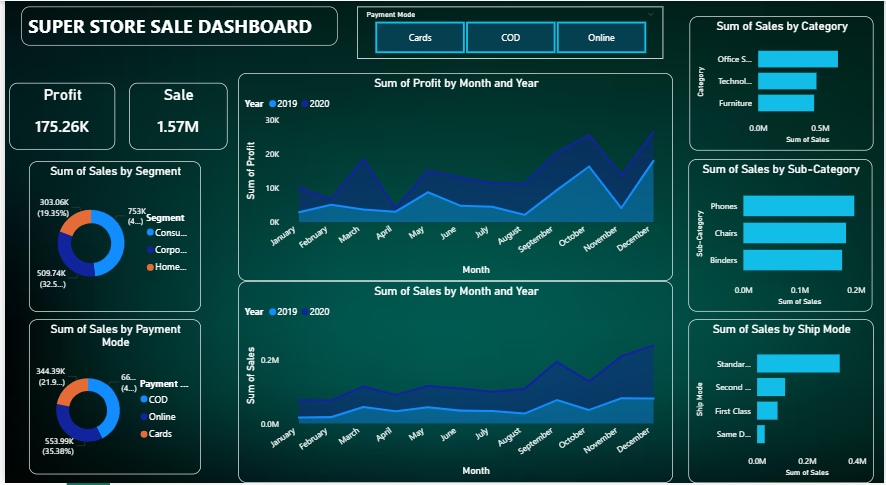

The dashboard page shown, as its layout file describes it:
{"tool":"powerbi","page":{"name":"Page 1","canvas":[1280,720],"ordinal":0},"visuals":[{"type":"clusteredBarChart","fields":{"Category":["Sheet1.Category"],"Y":["Sum(Sheet1.Sales)"]},"box":[996.8,41.3,268.3,195.2],"z":0},{"type":"clusteredBarChart","fields":{"Category":["Sheet1.Sub-Category"],"Y":["Sum(Sheet1.Sales)"]},"box":[995.2,249.2,268.3,222.2],"z":1000},{"type":"clusteredBarChart","fields":{"Category":["Sheet1.Ship Mode"],"Y":["Sum(Sheet1.Sales)"]},"box":[995.2,482.5,269.8,238.1],"z":2000},{"type":"stackedAreaChart","fields":{"Y":["Sum(Sheet1.Sales)"],"Category":["Sheet1.Order Date.Variation.Date Hierarchy.Month"],"Series":["Sheet1.Order Date.Variation.Date Hierarchy.Year"]},"box":[339.7,427,633.3,293.7],"z":3000},{"type":"stackedAreaChart","fields":{"Category":["Sheet1.Order Date.Variation.Date Hierarchy.Month"],"Series":["Sheet1.Order Date.Variation.Date Hierarchy.Year"],"Y":["Sum(Sheet1.Profit)"]},"box":[339.7,123.8,633.3,303.2],"z":4000},{"type":"donutChart","fields":{"Y":["Sum(Sheet1.Sales)"],"Category":["Sheet1.Segment"]},"box":[34.9,252.4,250.8,219],"z":4001},{"type":"donutChart","fields":{"Y":["Sum(Sheet1.Sales)"],"Category":["Sheet1.Payment Mode"]},"box":[34.9,482.5,250.8,225.4],"z":4002},{"type":"slicer","fields":{"Values":["Sheet1.Payment Mode"]},"box":[512.7,27,446,76.2],"z":4003},{"type":"textbox","box":[23.8,27,460.3,57.1],"z":4004},{"type":"cardVisual","title":"Sale","fields":{"Data":["Sum(Sheet1.Sales)"]},"box":[181,138.1,142.9,96.8],"z":4005},{"type":"cardVisual","title":"Profit","fields":{"Data":["Sum(Sheet1.Profit)"]},"box":[6.3,138.1,154,96.8],"z":4006}]}

Visuals, with their boxes in screenshot pixels (x1, y1, x2, y2), scaled from the page's 1280x720 canvas onto the 886x485 screenshot:
clusteredBarChart - Sheet1.Category x Sum(Sheet1.Sales): region(690, 28, 876, 159)
clusteredBarChart - Sheet1.Sub-Category x Sum(Sheet1.Sales): region(689, 168, 875, 318)
clusteredBarChart - Sheet1.Ship Mode x Sum(Sheet1.Sales): region(689, 325, 876, 484)
stackedAreaChart - Sum(Sheet1.Sales) x Sheet1.Order Date.Variation.Date Hierarchy.Month: region(235, 288, 673, 484)
stackedAreaChart - Sheet1.Order Date.Variation.Date Hierarchy.Month x Sheet1.Order Date.Variation.Date Hierarchy.Year: region(235, 83, 673, 288)
donutChart - Sum(Sheet1.Sales) x Sheet1.Segment: region(24, 170, 198, 318)
donutChart - Sum(Sheet1.Sales) x Sheet1.Payment Mode: region(24, 325, 198, 477)
slicer - Sheet1.Payment Mode: region(355, 18, 664, 70)
textbox: region(16, 18, 335, 57)
"Sale" cardVisual: region(125, 93, 224, 158)
"Profit" cardVisual: region(4, 93, 111, 158)
